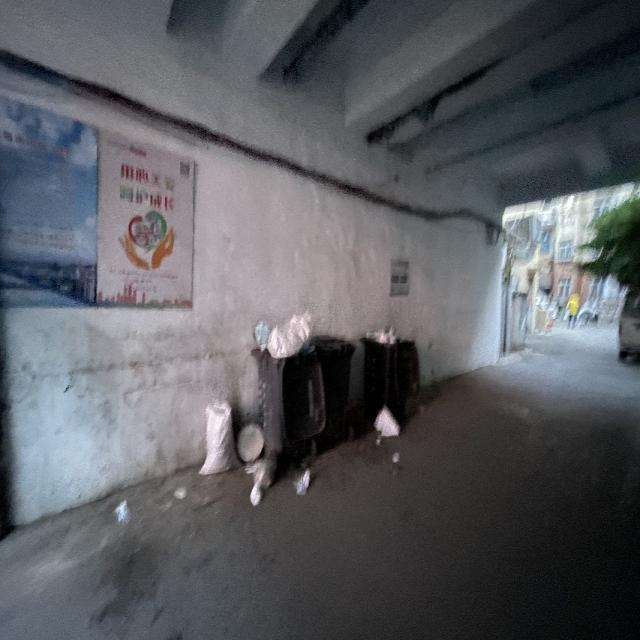garbage: (198, 402, 309, 507), (372, 406, 400, 461)
garbage_bin: (313, 333, 354, 444)
overflow: (250, 310, 326, 461), (360, 328, 420, 420)
